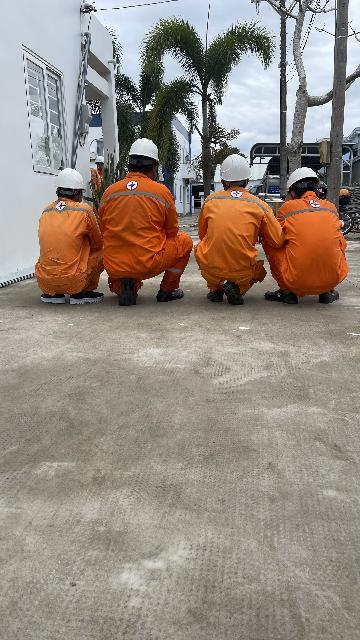helmet: (211, 148, 251, 196), (44, 160, 90, 198), (117, 137, 163, 173), (283, 164, 324, 197), (336, 187, 352, 197), (95, 153, 106, 167)
shoes: (220, 280, 248, 311), (261, 284, 293, 311), (66, 287, 105, 308), (155, 280, 186, 306), (311, 286, 348, 307), (115, 278, 139, 308), (32, 289, 67, 306), (200, 282, 220, 304)
